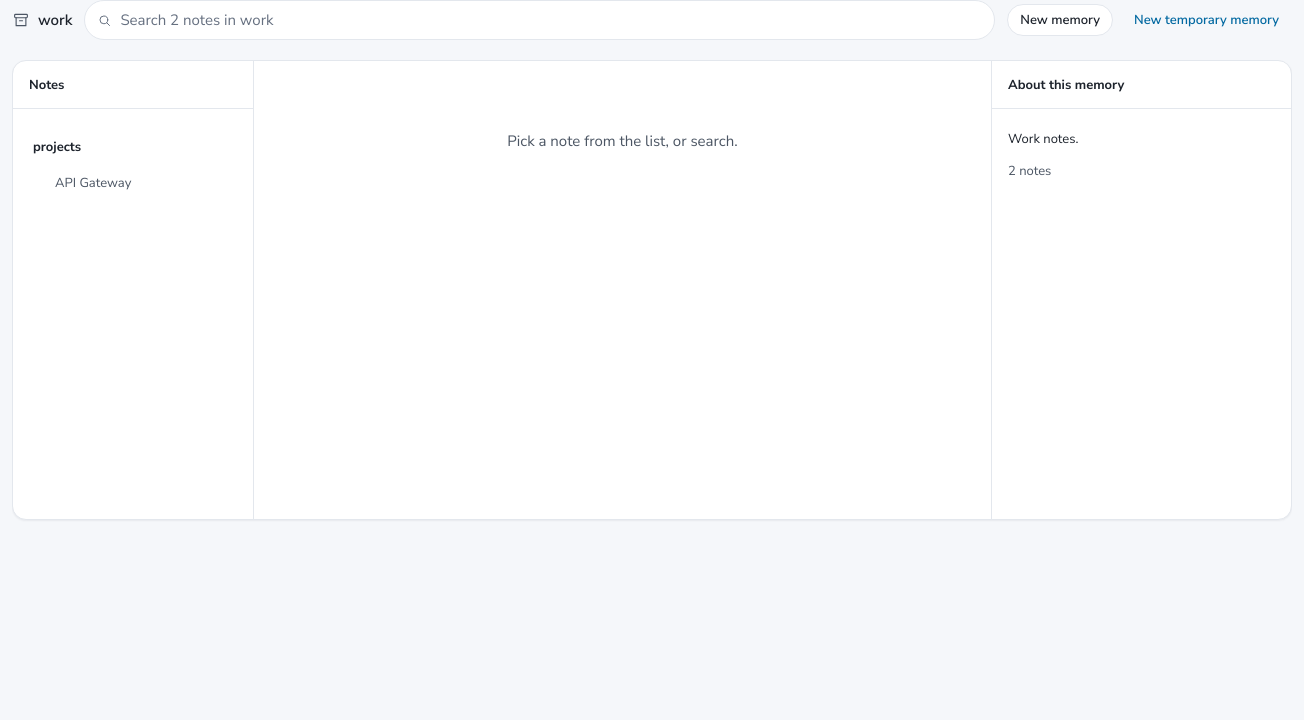
Memories › Browse › says when a note or its links cannot be loaded instead of a skeleton forever (issue 378)
What coordinates should you click on to do the following:
click the button "API Gateway"
I would click on:
 (133, 183)
Its box is [25,165,241,201].
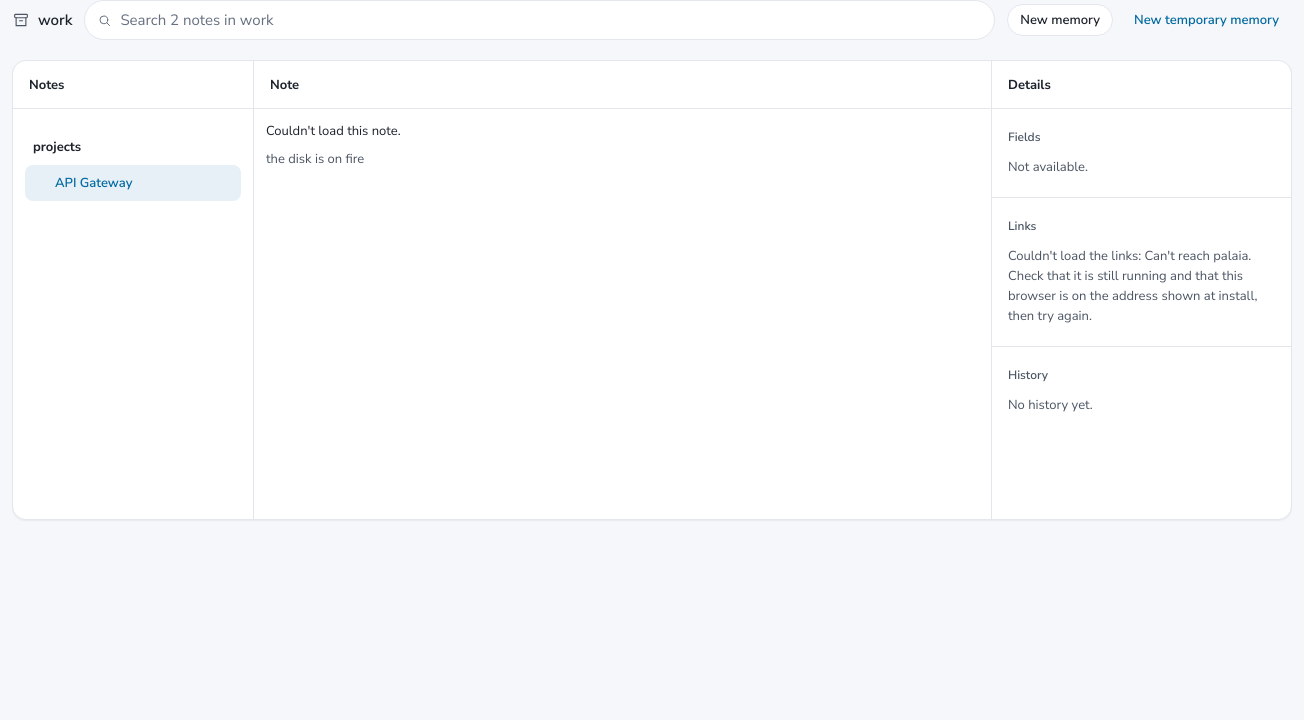
Result: the text "Couldn't load this note." is shown at [266,122,401,140]
Result: the text "the disk is on fire" is shown at [266,150,364,168]
Result: the text "Couldn't load the links" is shown at [1008,247,1144,265]
